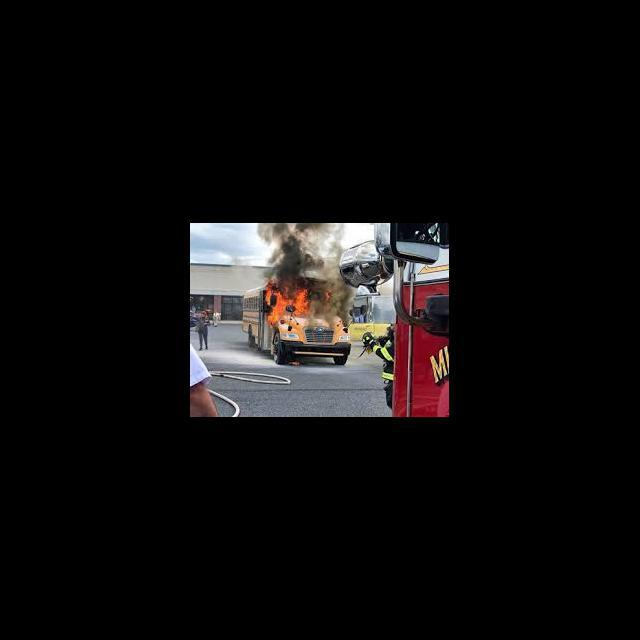Fire: (262, 281, 306, 329), (323, 288, 334, 302)
Smoke: (262, 223, 340, 280), (310, 283, 322, 322), (336, 282, 352, 304), (326, 305, 350, 319), (324, 282, 335, 288)
